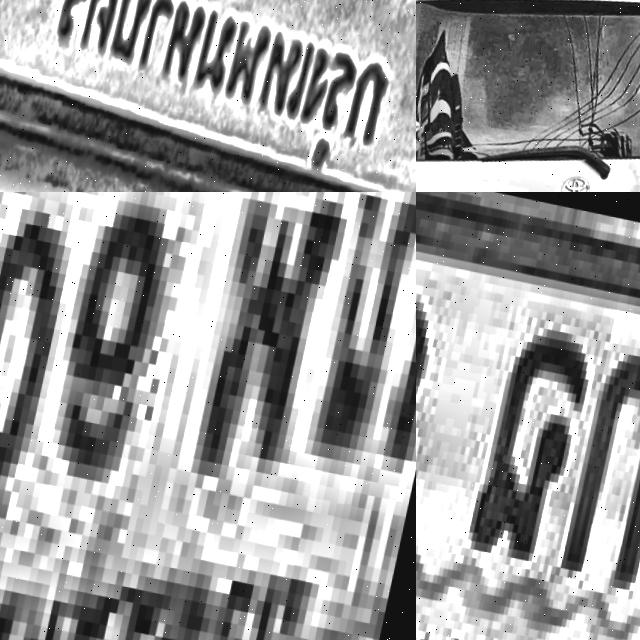license-plate: (0, 192, 416, 640), (416, 192, 640, 640), (0, 0, 416, 192)
